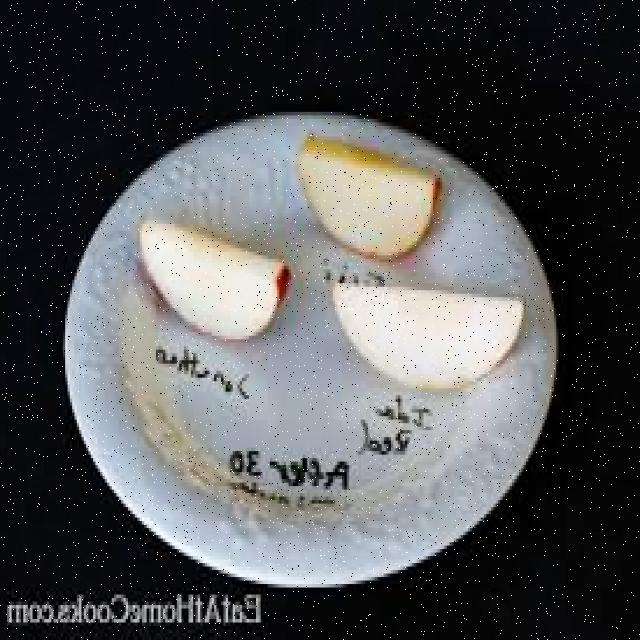Apple: (326, 276, 529, 395), (137, 216, 290, 342), (301, 138, 442, 258)
